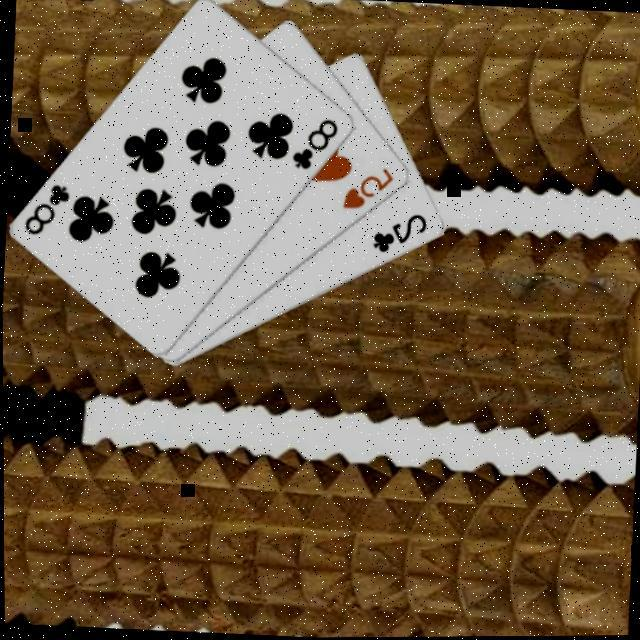2C: (369, 208, 430, 257)
5H: (339, 162, 397, 214)
8C: (287, 113, 341, 174), (21, 177, 73, 237)
